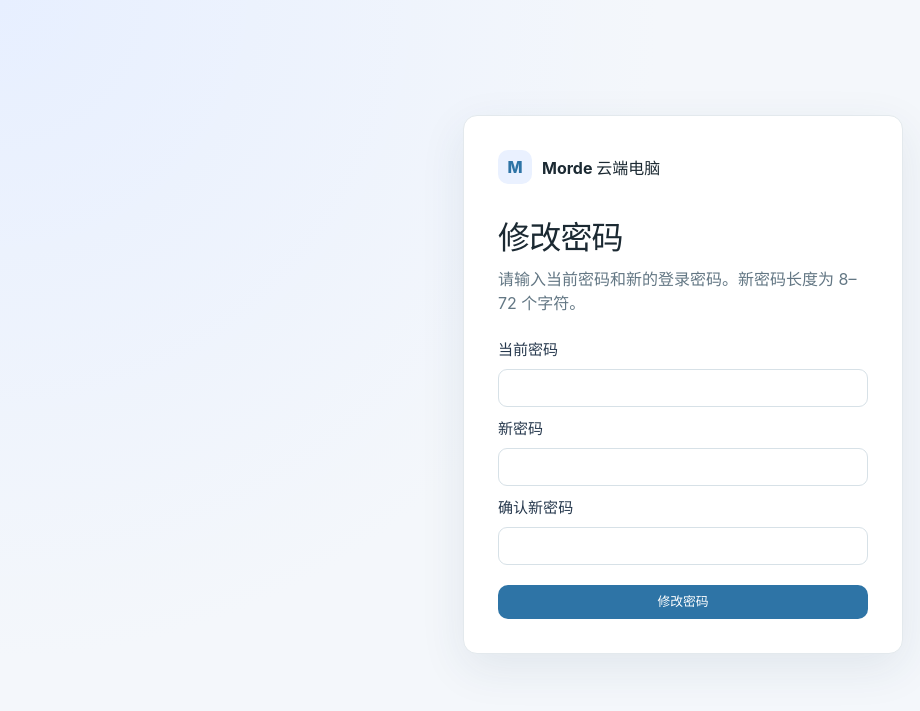
Scenario: change password page › keeps the form and reports server errors
Type "wrong-password" into the password field labelled "当前密码" at (683, 388), box [498, 368, 868, 406]
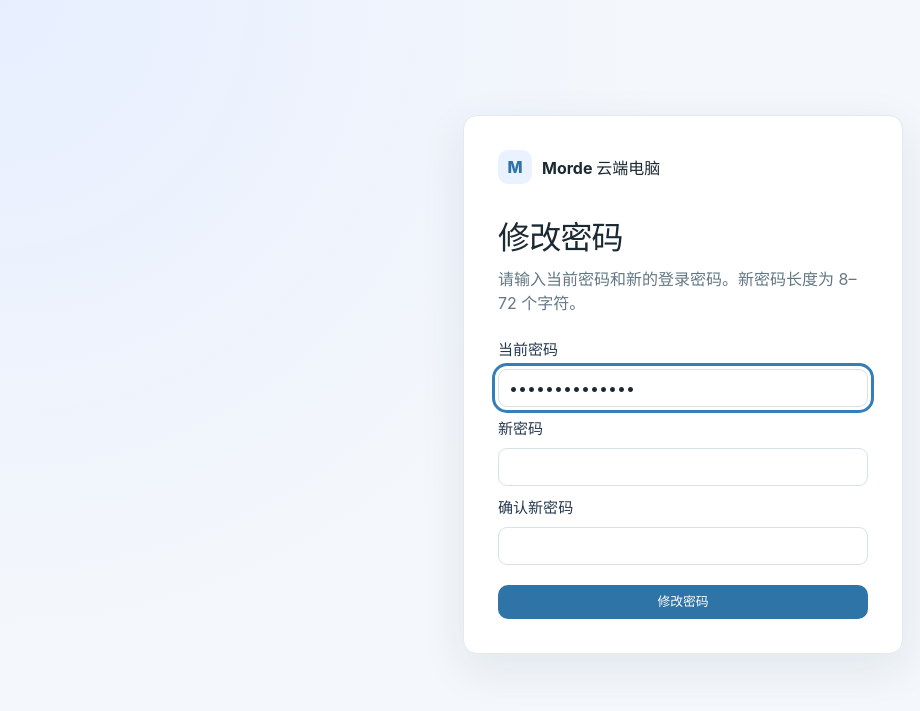
Type "new-password-1" into the password field labelled "新密码" at (683, 466), box [498, 448, 868, 486]
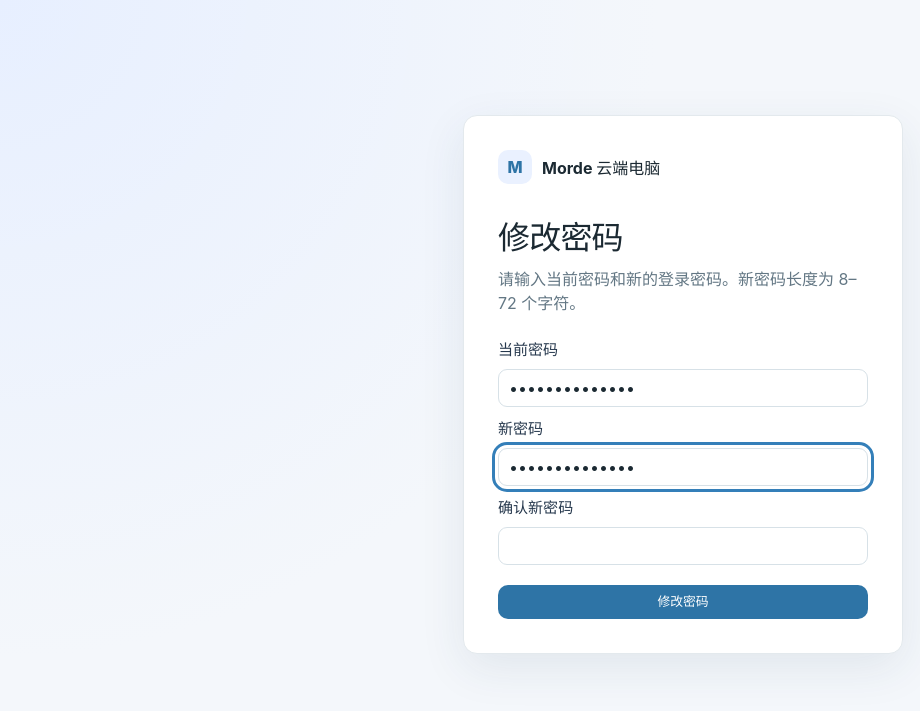
Type "new-password-1" into the password field labelled "确认新密码" at (683, 546), box [498, 526, 868, 564]
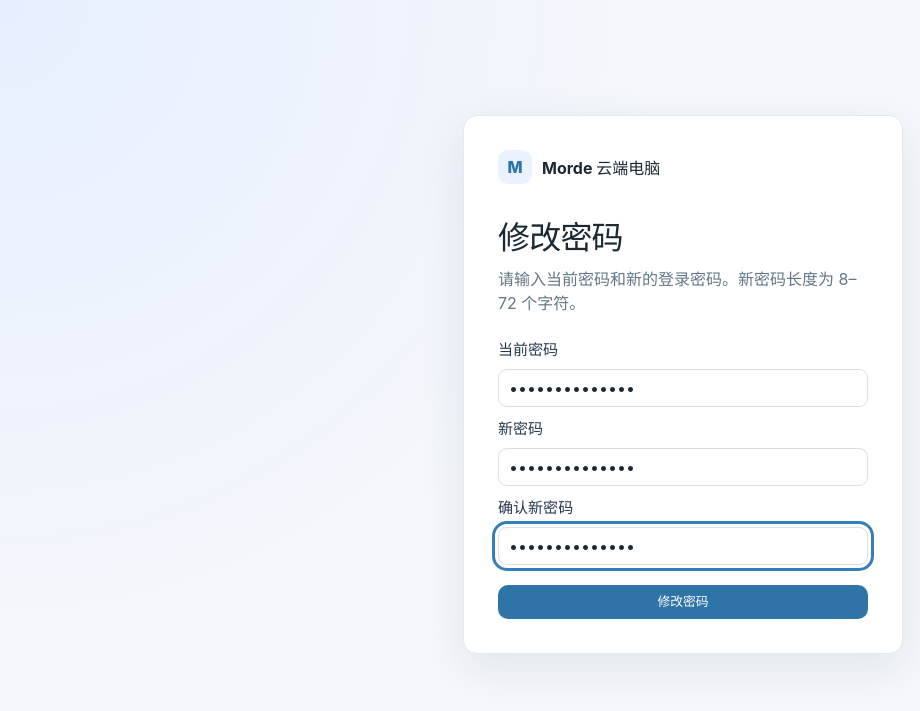
Click the button "修改密码" at (683, 602), box [498, 584, 868, 618]
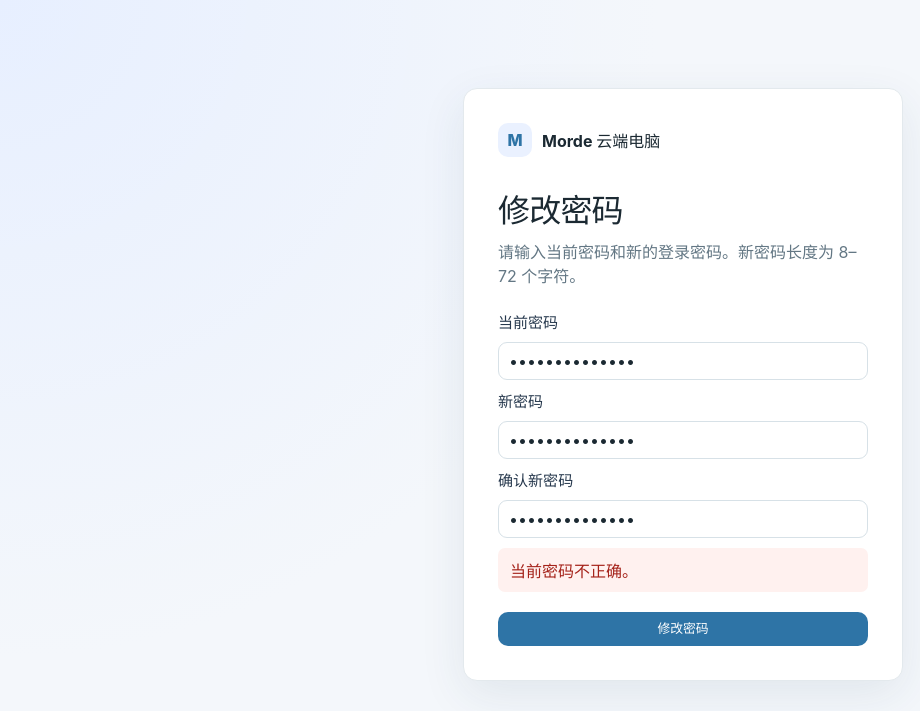
Expected: the heading "修改密码" is shown, [498, 190, 623, 230]
Expected: the message shows "当前密码不正确", [510, 560, 638, 580]
